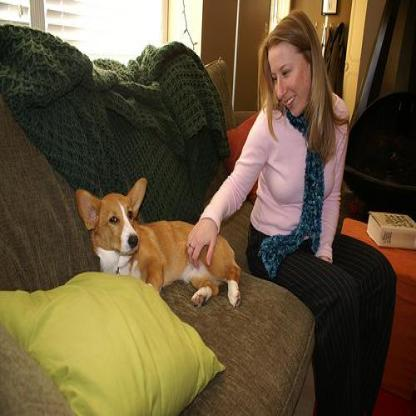Pembroke: (71, 174, 241, 309)
